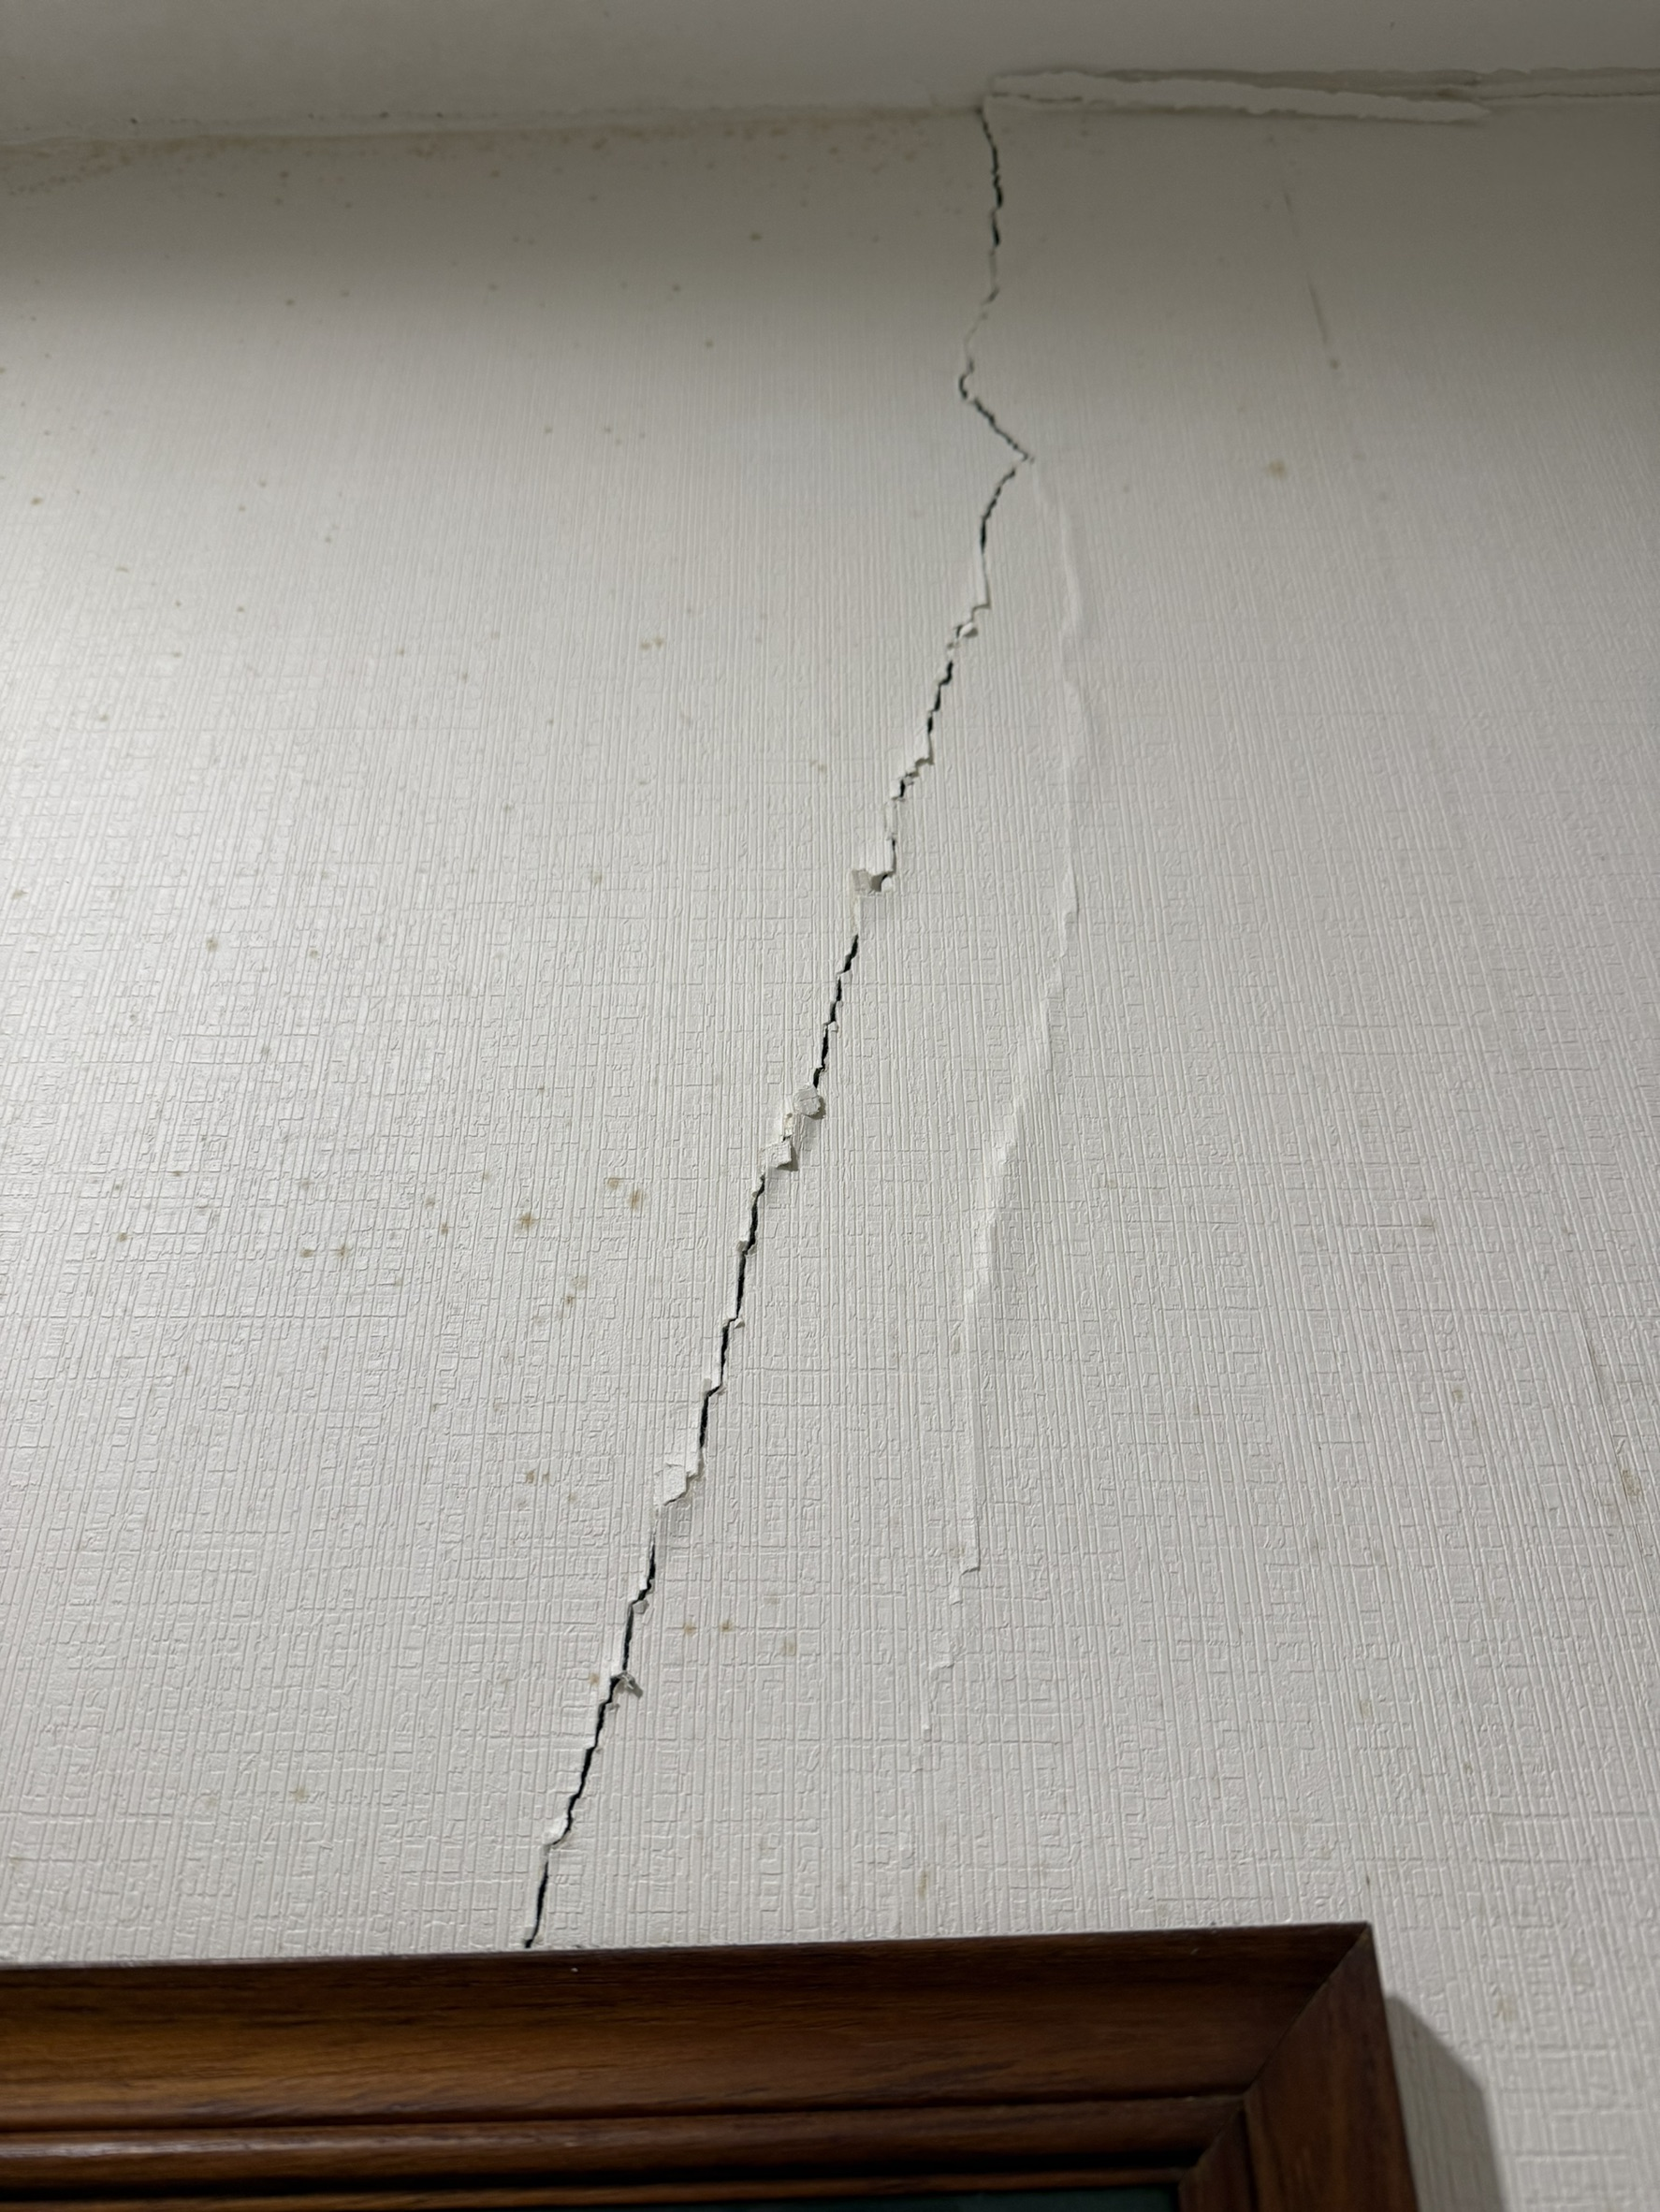Medium: (481, 160, 1060, 1930)
